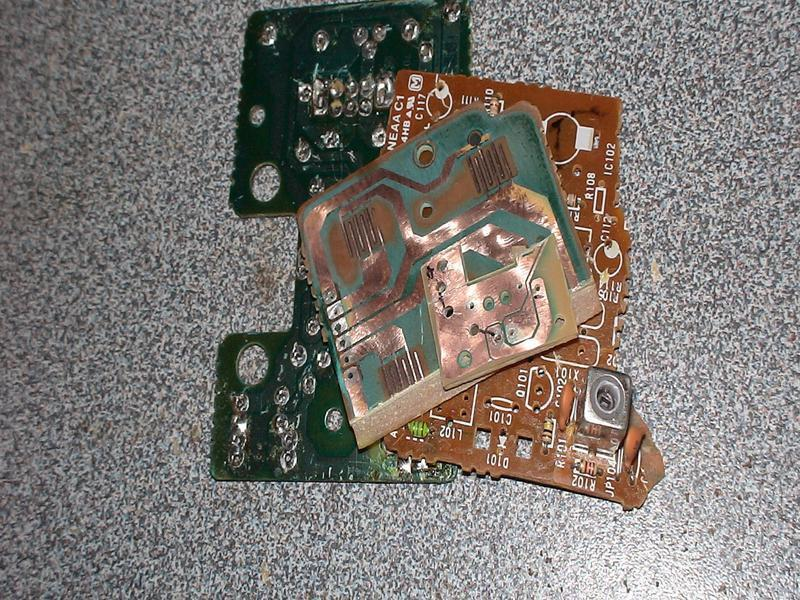circuit_board: (289, 97, 685, 447), (222, 3, 473, 216)
